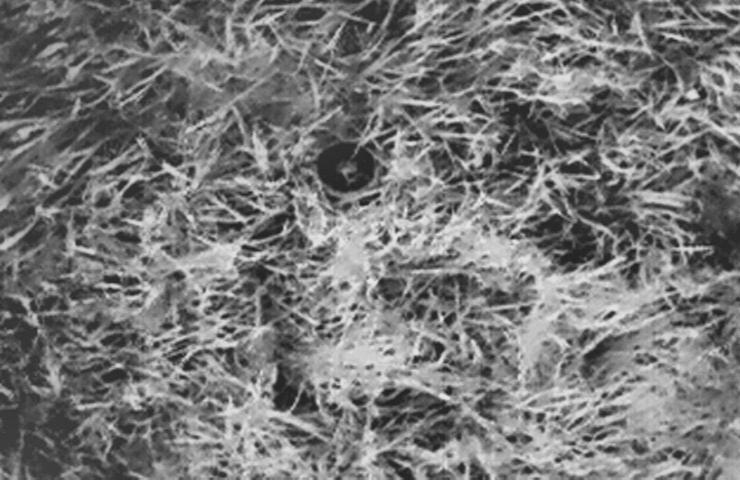landmines: (311, 137, 385, 205)
